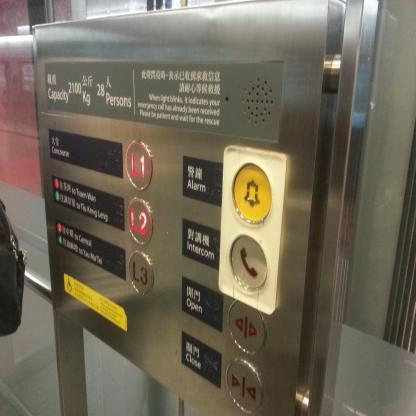L1: (125, 138, 154, 191)
L2: (126, 196, 153, 246)
L3: (127, 250, 155, 296)
alarm: (230, 163, 272, 225)
call: (228, 234, 268, 292)
close: (225, 359, 263, 413)
open: (226, 300, 267, 356)
